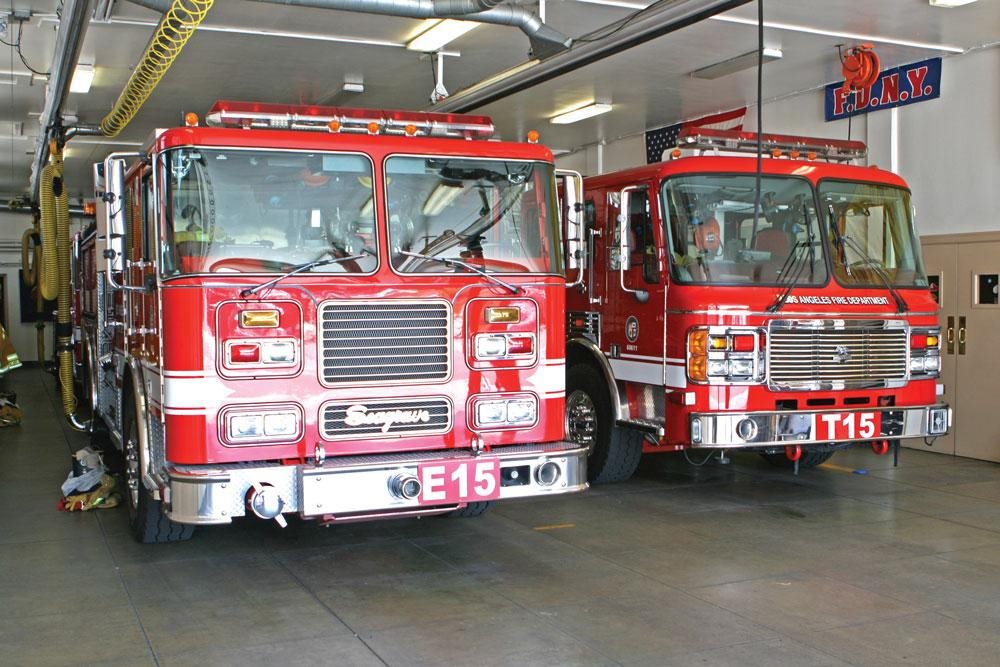Fire-engine: (66, 98, 592, 544), (554, 107, 952, 486)
